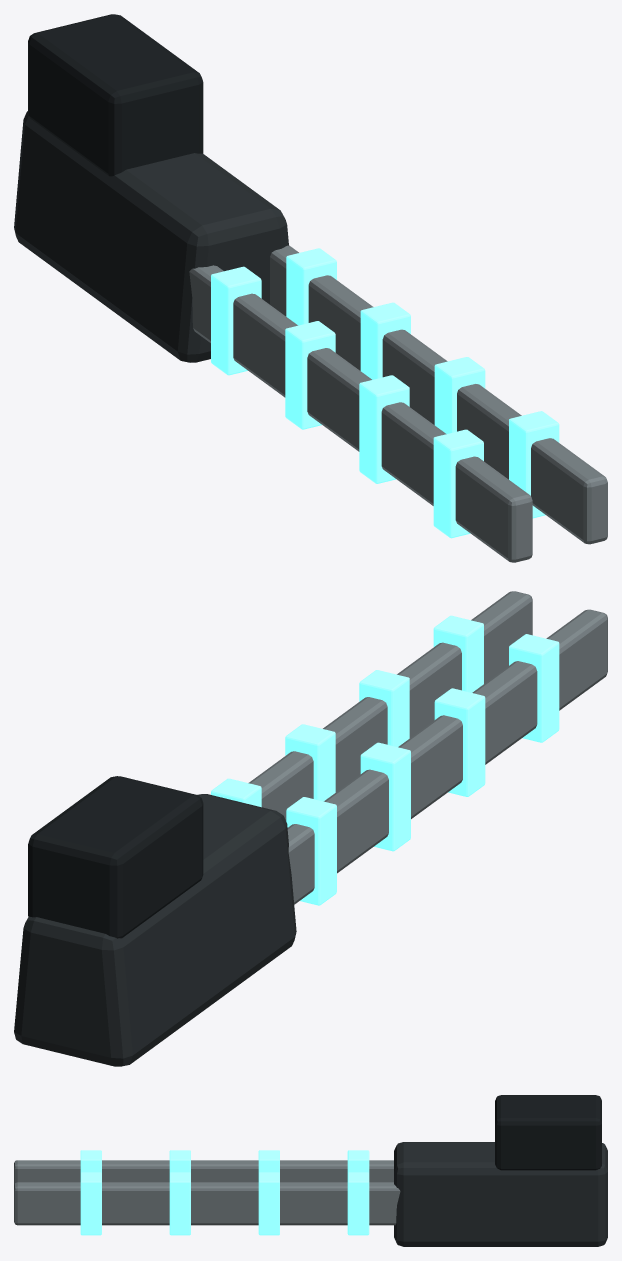
The model's file is weapon_railgun.glb.
3 views of the same model, one above another, from view 1: azimuth 30°, elevation 25°; view 2: azimuth 150°, elevation 25°; view 3: azimuth 270°, elevation 25° (orthographic). The views are drawn at different scales.
Parts seen in each view (by area): view 1: housing, capacitor, rail_-1, rail_1, coil_-1_3, coil_-1_2, coil_-1_0, coil_-1_1, coil_1_3, coil_1_2, coil_1_0, coil_1_1; view 2: housing, capacitor, rail_-1, rail_1, coil_-1_2, coil_-1_3, coil_-1_0, coil_-1_1, coil_1_1, coil_1_2, coil_1_3, coil_1_0; view 3: housing, rail_1, capacitor, rail_-1, coil_1_0, coil_1_3, coil_1_2, coil_1_1, coil_-1_0, coil_-1_1, coil_-1_2, coil_-1_3.
Boxes of the visible parts, box(x1,y1,x2,y2) form: housing: box(14, 111, 288, 362); capacitor: box(28, 14, 203, 176); rail_-1: box(189, 265, 532, 562); rail_1: box(270, 245, 607, 544); coil_-1_3: box(433, 429, 483, 538); coil_-1_2: box(359, 375, 409, 483); coil_-1_0: box(211, 266, 261, 375); coil_-1_1: box(285, 321, 335, 429); coil_1_3: box(509, 411, 559, 518); coil_1_2: box(434, 357, 485, 433); coil_1_0: box(286, 248, 336, 325); coil_1_1: box(360, 302, 410, 379); housing: box(14, 794, 296, 1066); capacitor: box(28, 776, 203, 938); rail_-1: box(287, 609, 607, 904); rail_1: box(248, 591, 532, 820); coil_-1_2: box(434, 688, 485, 796); coil_-1_3: box(509, 634, 559, 742); coil_-1_0: box(286, 797, 336, 905); coil_-1_1: box(360, 742, 410, 851); coil_1_1: box(285, 724, 335, 801); coil_1_2: box(359, 670, 409, 746); coil_1_3: box(433, 615, 483, 692); coil_1_0: box(211, 778, 261, 807); housing: box(394, 1142, 607, 1246); rail_1: box(14, 1182, 400, 1225); capacitor: box(495, 1095, 601, 1170); rail_-1: box(14, 1160, 393, 1184); coil_1_0: box(347, 1172, 369, 1235); coil_1_3: box(80, 1172, 101, 1235); coil_1_2: box(169, 1172, 190, 1235); coil_1_1: box(258, 1172, 279, 1235); coil_-1_0: box(347, 1150, 369, 1172); coil_-1_1: box(258, 1150, 279, 1172); coil_-1_2: box(169, 1150, 190, 1172); coil_-1_3: box(80, 1150, 101, 1172).
Bounding box in the file's own units: 0.6851 × 1.18 × 5.
